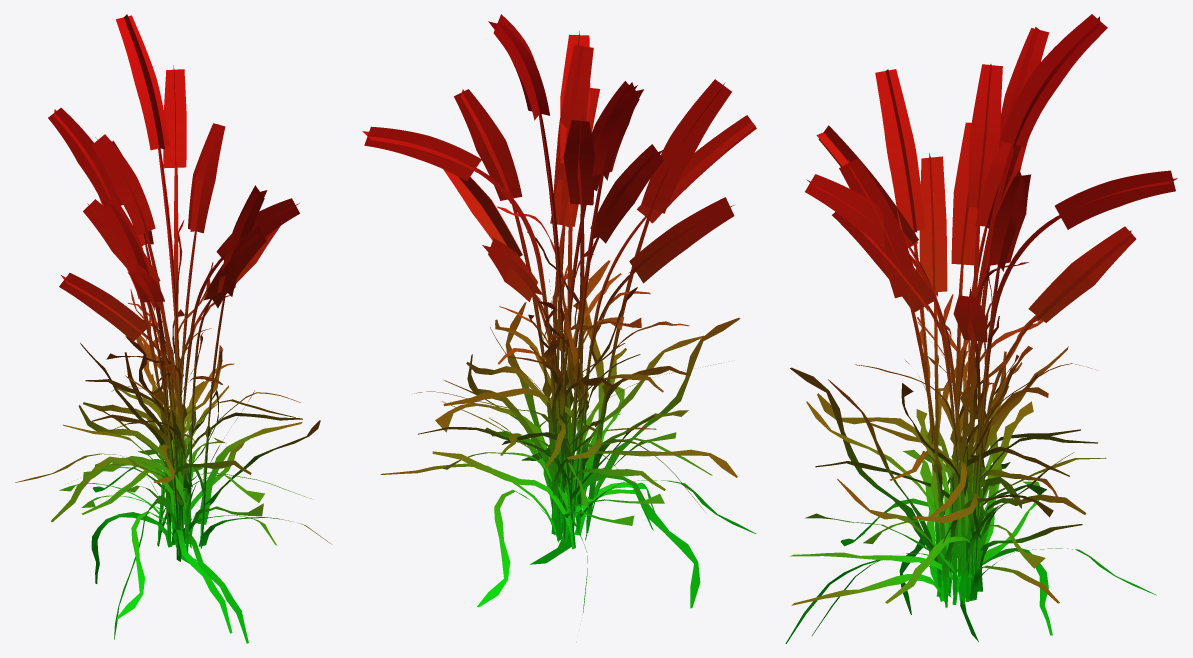
File: slBm1_Var3_LOD0.fbx
3 renders of one model, left to right at view 1: azimuth 30°, elevation 25°; view 2: azimuth 150°, elevation 25°; view 3: azimuth 270°, elevation 25°, orthographic. The views are drawn at different scales.
Parts seen in each view (by area): view 1: _3fcd_Var3_LOD0; view 2: _3fcd_Var3_LOD0; view 3: _3fcd_Var3_LOD0.
Boxes of the visible parts, x1,y1,x2,y2 form: _3fcd_Var3_LOD0: (15,14,331,643); _3fcd_Var3_LOD0: (362,14,756,612); _3fcd_Var3_LOD0: (785,14,1177,643).
Bounding box in the file's own units: 30.45 × 57.61 × 31.45.
